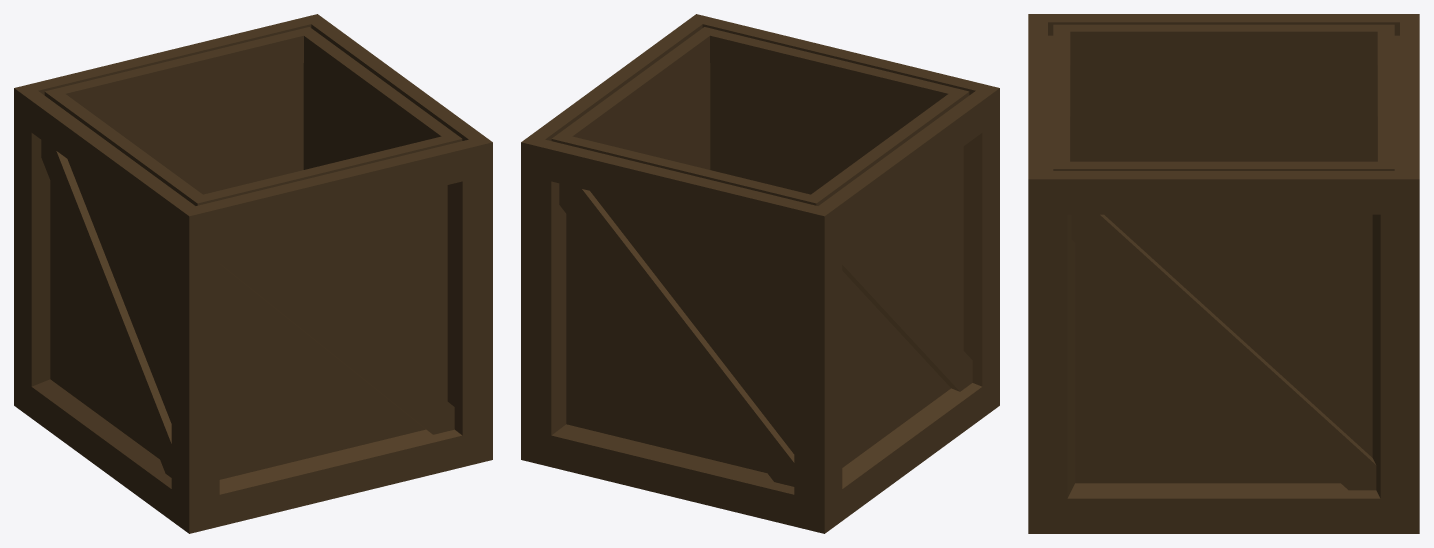
Rendered from crate_open.fbx.
3 renders of one model, left to right at view 1: azimuth 30°, elevation 25°; view 2: azimuth 150°, elevation 25°; view 3: azimuth 270°, elevation 25°, orthographic. The views are drawn at different scales.
Parts seen in each view (by area): view 1: Cube; view 2: Cube; view 3: Cube.
Part boxes in pixels (x1,y1,x2,y2): Cube: [14, 14, 492, 533]; Cube: [521, 14, 999, 533]; Cube: [1028, 14, 1419, 533].
Size of the model in its own units: 200 by 200 by 200.
